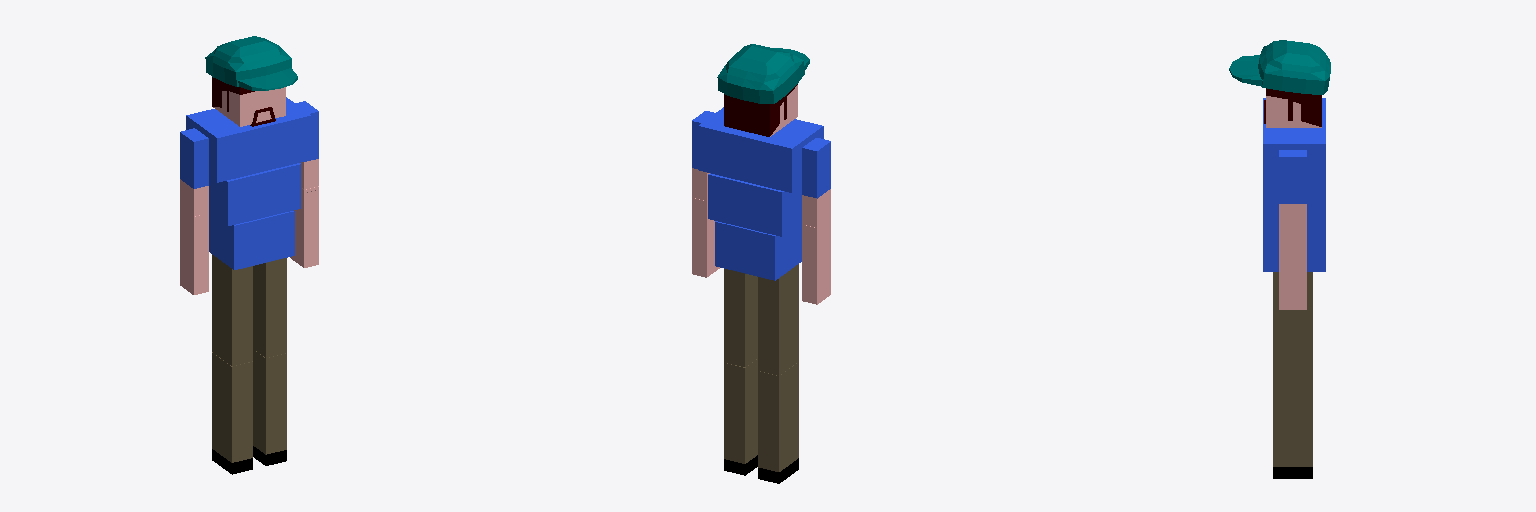
File: Humanoid_v01.obj
3 views of the same model, side by side, from view 1: azimuth 30°, elevation 25°; view 2: azimuth 150°, elevation 25°; view 3: azimuth 270°, elevation 25° (orthographic).
Parts seen in each view (by area): view 1: Humanoid_v01.obj; view 2: Humanoid_v01.obj; view 3: Humanoid_v01.obj.
Boxes of the visible parts, x1,y1,x2,y2 form: Humanoid_v01.obj: [180, 36, 318, 474]; Humanoid_v01.obj: [692, 44, 830, 483]; Humanoid_v01.obj: [1229, 40, 1330, 478].
Size of the model in its own units: 1.99 by 6.35 by 1.41.